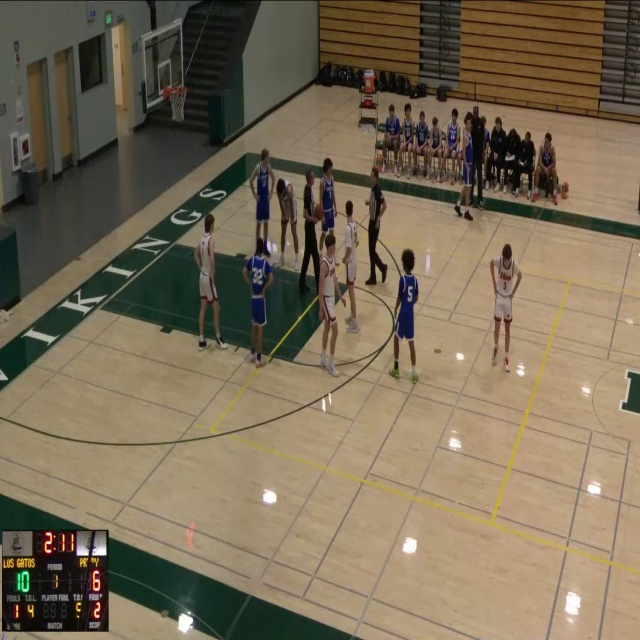Basketball: (313, 203, 324, 221)
